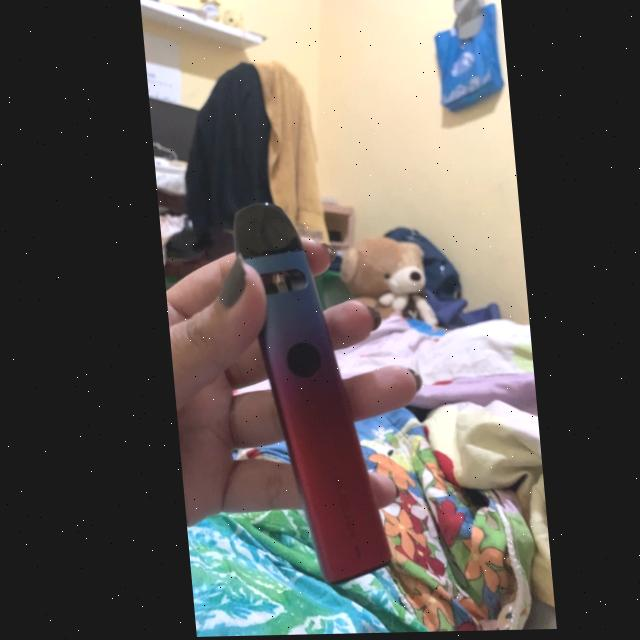vape: (224, 202, 387, 594)
